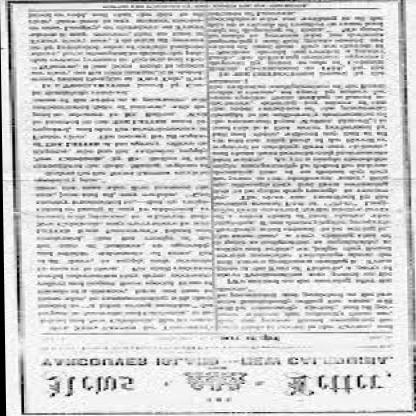Paper: (16, 0, 416, 414)
